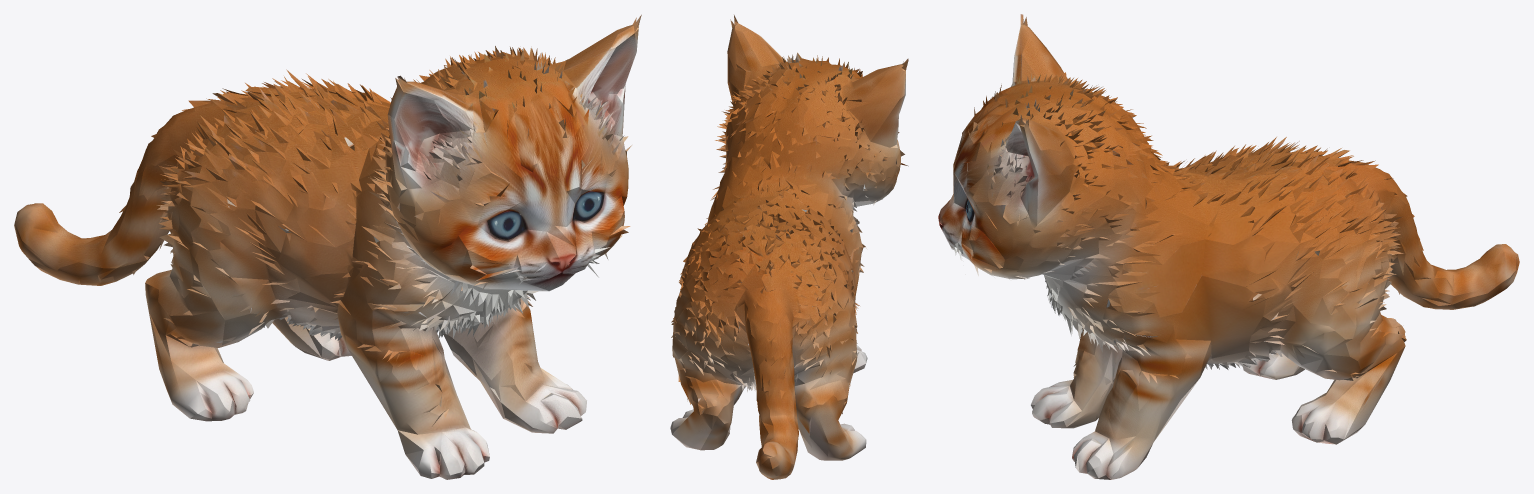
File: modelo.glb
3 views of the same model, side by side, from view 1: azimuth 30°, elevation 25°; view 2: azimuth 150°, elevation 25°; view 3: azimuth 270°, elevation 25° (orthographic). The views are drawn at different scales.
Size of the model in its own units: 1.15 by 1.35 by 1.9.
Materials: 1 (1 with a texture image).
